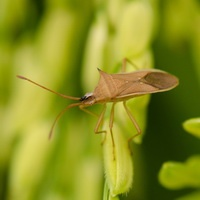insect: (17, 58, 178, 147)
